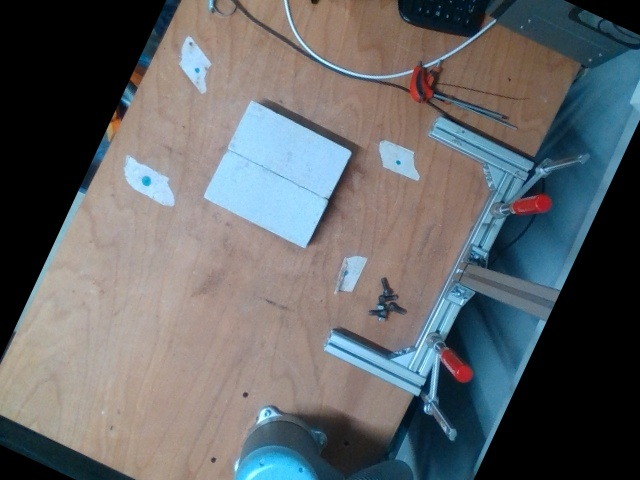brick: (204, 149, 327, 247), (228, 100, 351, 198)
